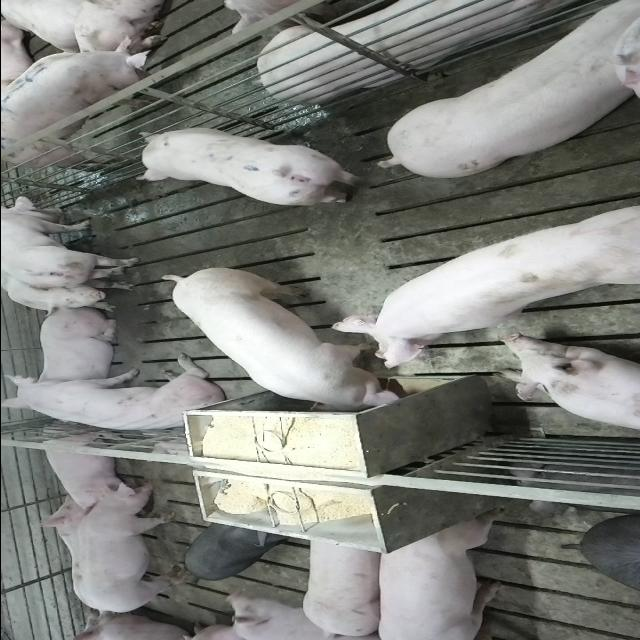Feeding: (320, 198, 634, 370), (160, 271, 412, 421)
Sitting: (4, 356, 228, 436), (1, 194, 143, 314)
Standing: (372, 5, 636, 183), (0, 29, 176, 166), (133, 125, 365, 206), (373, 510, 511, 637), (79, 481, 183, 619), (302, 529, 384, 635), (176, 524, 286, 583)
Sternal_lying: (238, 0, 588, 101), (495, 337, 640, 438), (36, 429, 132, 508), (34, 310, 122, 390)
